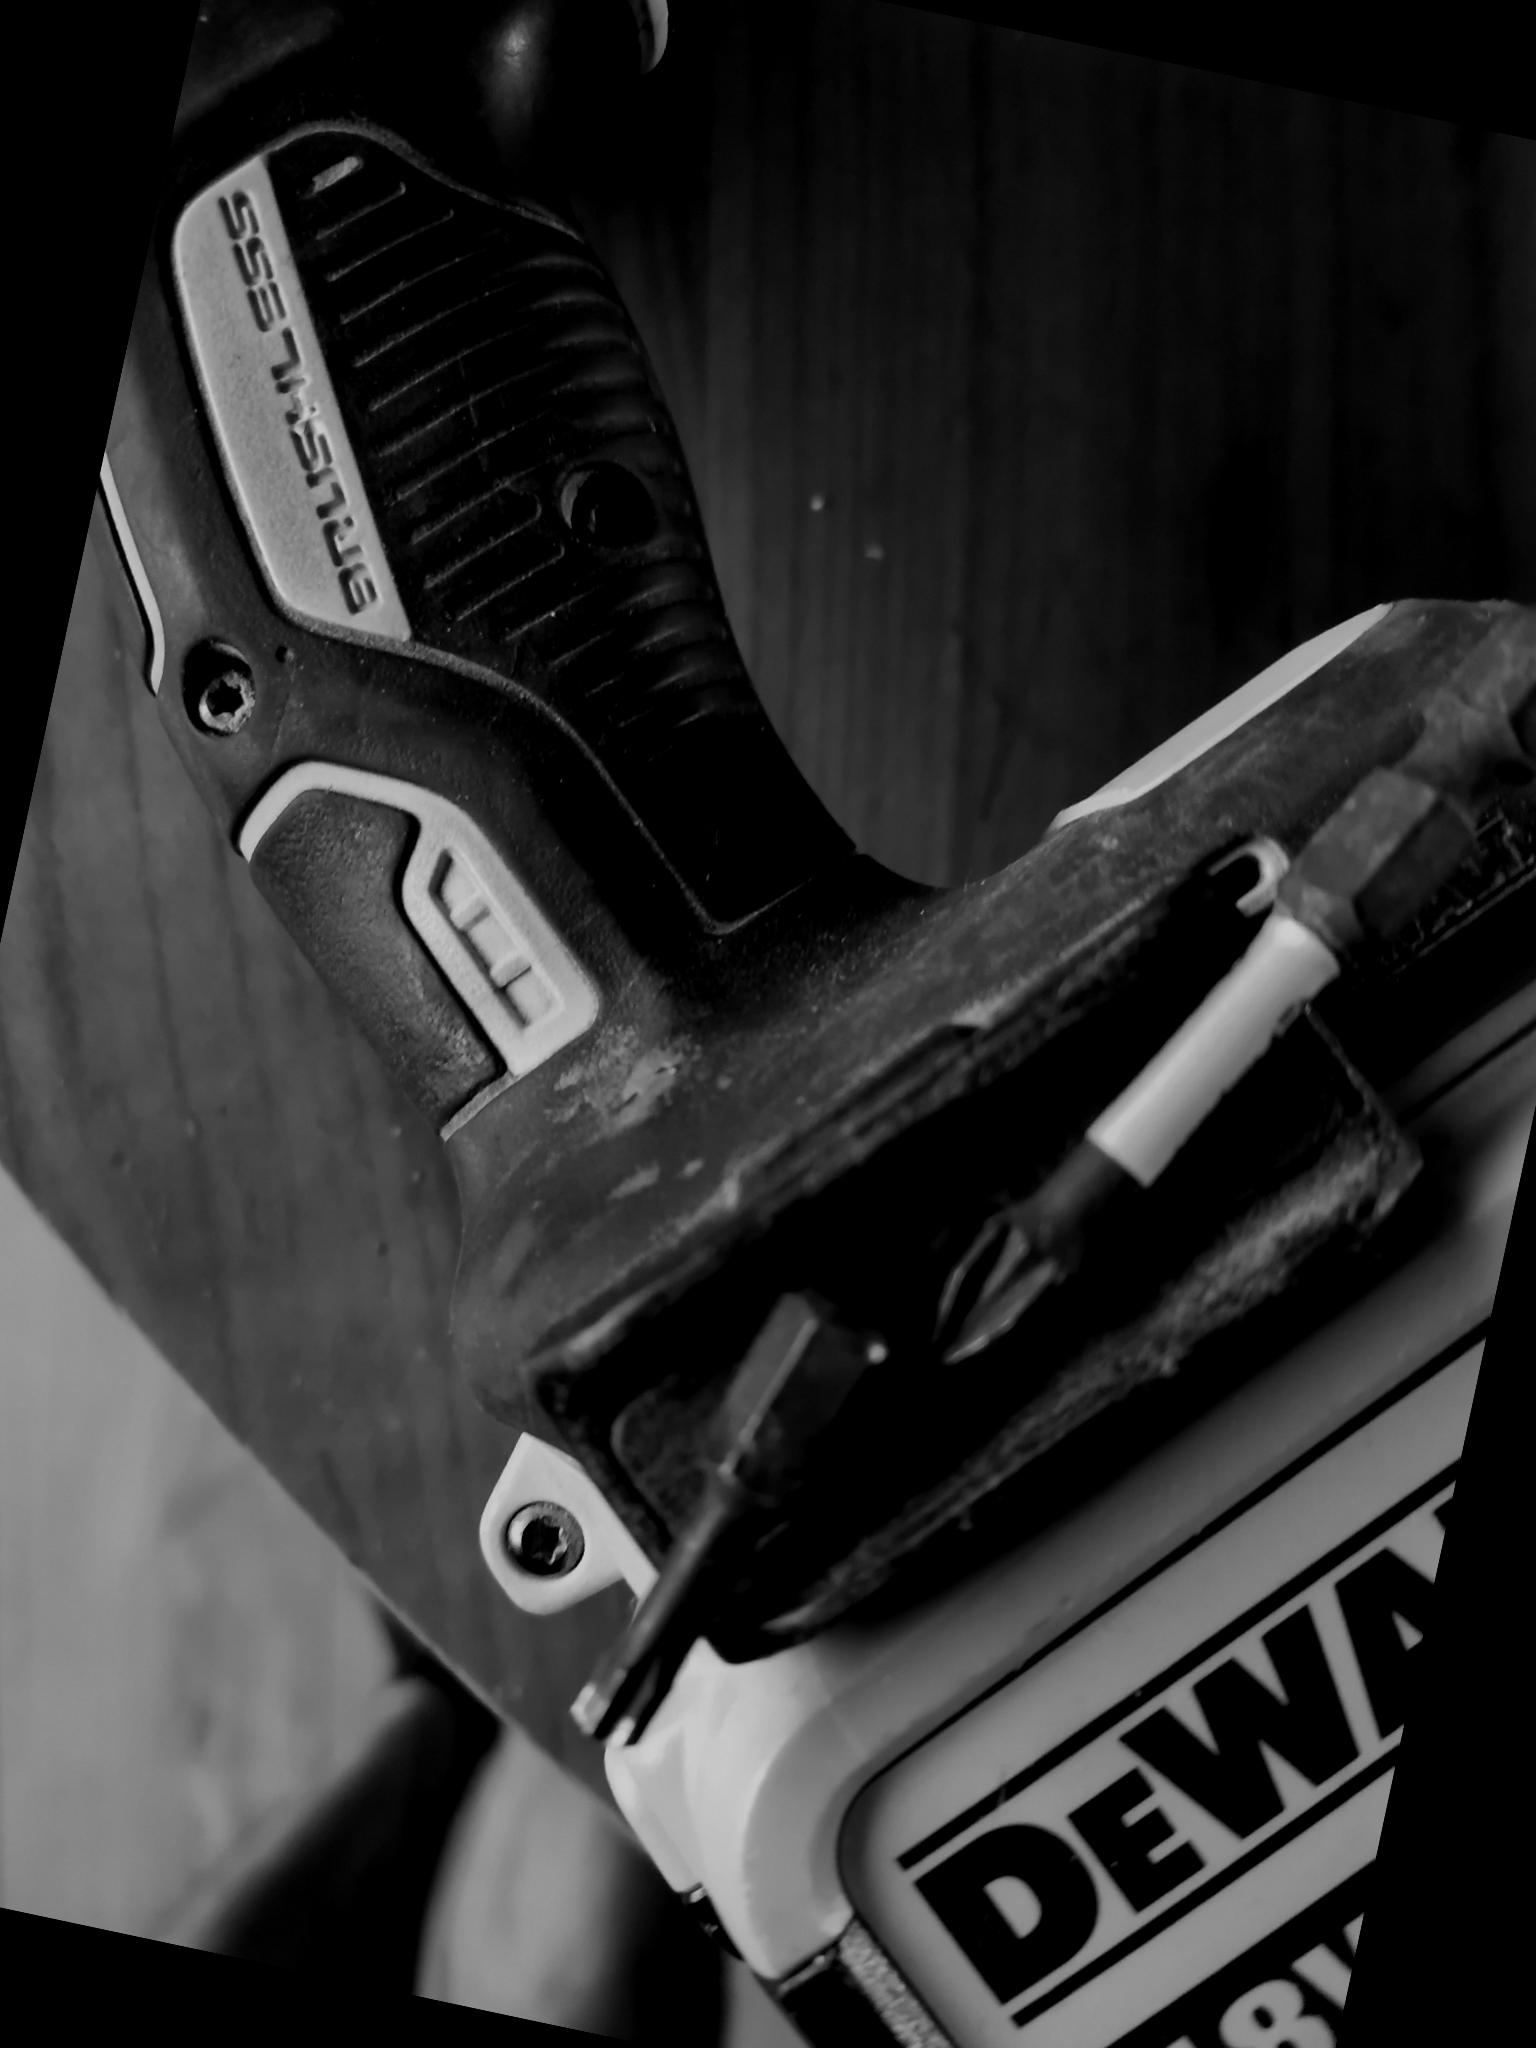screw: (484, 1487, 600, 1598), (549, 464, 655, 563), (169, 648, 271, 745)
